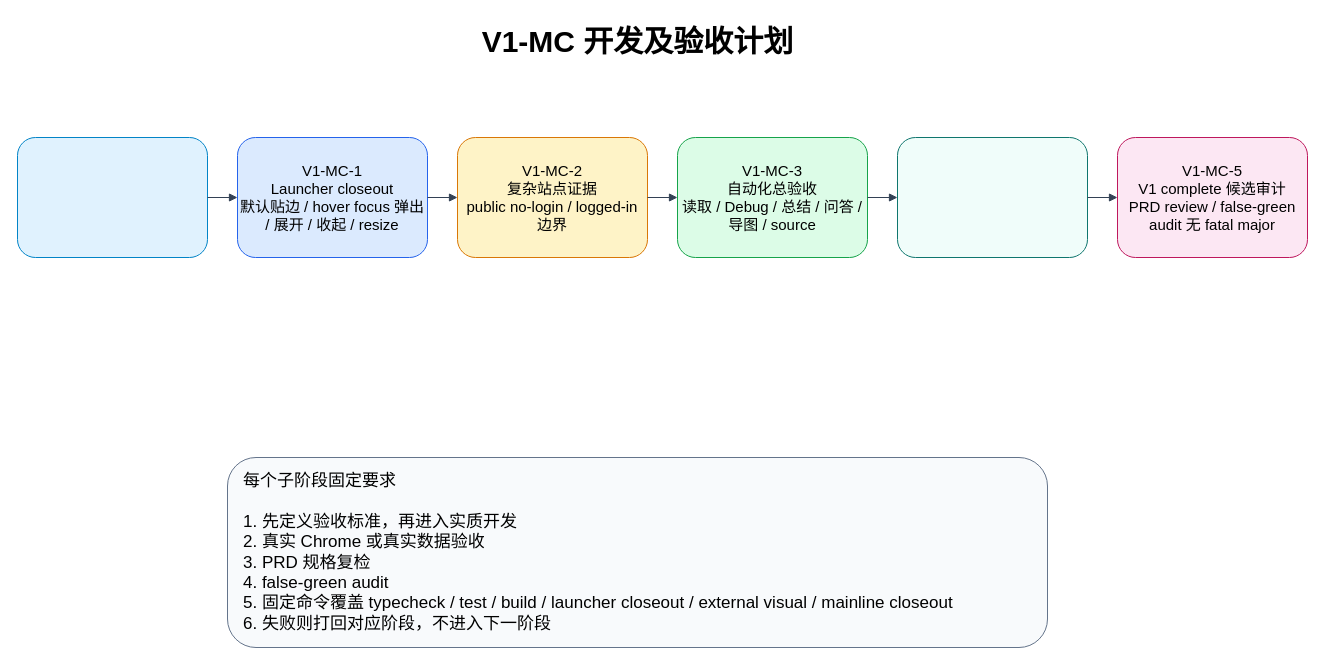
Some shapes in this 1325 by 665 pixel diagram are drawn without their labels. The box of each missing label's shape, as (x1, y1, x2, y2) in pixels:
V1-MC-0 文档门禁 PRD / 架构 / 计划 / 验收 / drawio 同步: (16, 136, 208, 258)
V1-MC-4 人工核查准备 体验 checklist / 证据路径 / 风险说明: (896, 136, 1088, 258)
